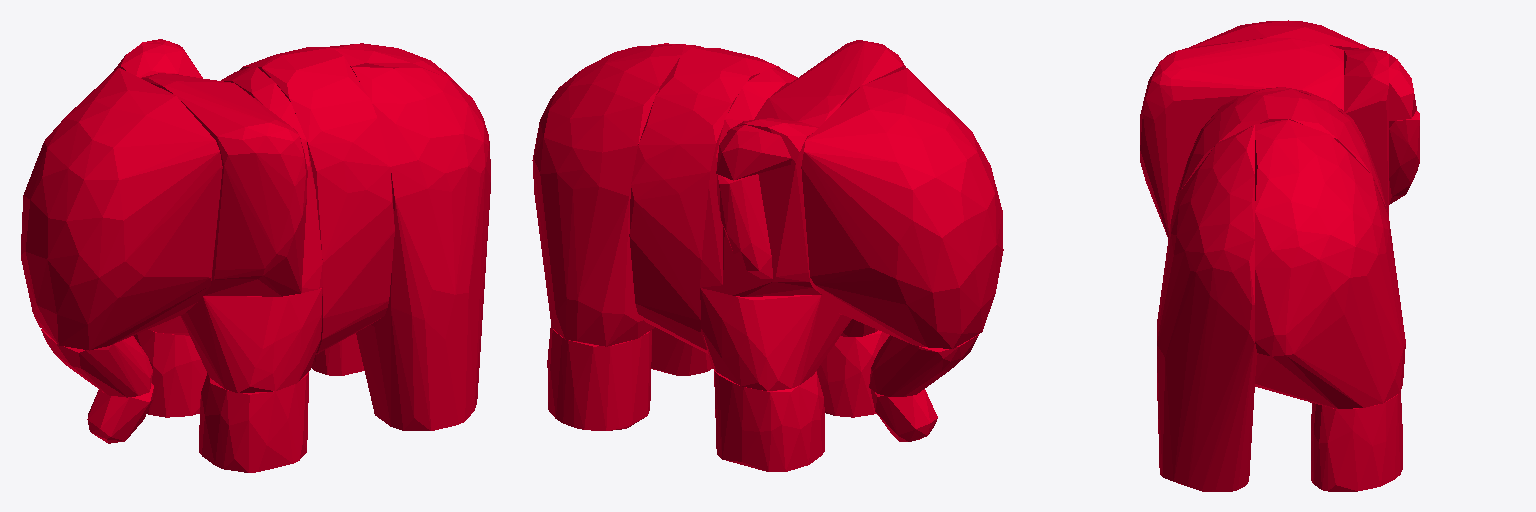
URDF robot description (elephant):
<robot name="elephant">
	<link name="_name">
		<visual>
			<origin xyz="-0.008427014869583265 1.7881269135539368e-09 -0.012357909365616863" rpy="0 0 0" />
			<geometry>
				<mesh filename="elephant_vhacd.obj" scale="0.7 0.7 0.7" />
			</geometry>
       		<material name="red">
        		<color rgba="0.9 0 0.2 1.0"/>
      		</material>
		</visual>
		<collision>
			<geometry>
				<mesh filename="elephant_vhacd.obj" scale="0.7 0.7 0.7" />
			</geometry>
		<origin xyz="-0.008427014869583265 1.7881269135539368e-09 -0.012357909365616863" rpy="0 0 0" /></collision>
		<inertial>
			<mass value="1.0" />
			<inertia ixx="1.0" ixy="0.0" ixz="0.0" iyy="1.0" iyz="0.0" izz="1.0" />
		</inertial>
	</link>
</robot>

--- Facts derived from the render (not from the file) ---
Views: 3 orthographic renders of the robot side by side, from view 1: azimuth 30°, elevation 25°; view 2: azimuth 150°, elevation 25°; view 3: azimuth 270°, elevation 25°.
Robot: elephant — 1 links, 0 joints (none); root link _name; default pose: all joints at 0.
Visible links, largest first — view 1: _name; view 2: _name; view 3: _name.
Link boxes in pixels (x1=…): _name: x1=21, y1=39, x2=490, y2=472; _name: x1=532, y1=40, x2=1003, y2=471; _name: x1=1140, y1=20, x2=1419, y2=491.
Bounding box of the posed robot: 0.0812 × 0.0459 × 0.0601 m (x, y, z).
1 mesh visuals loaded from 1 distinct referenced files (1 OBJ).
